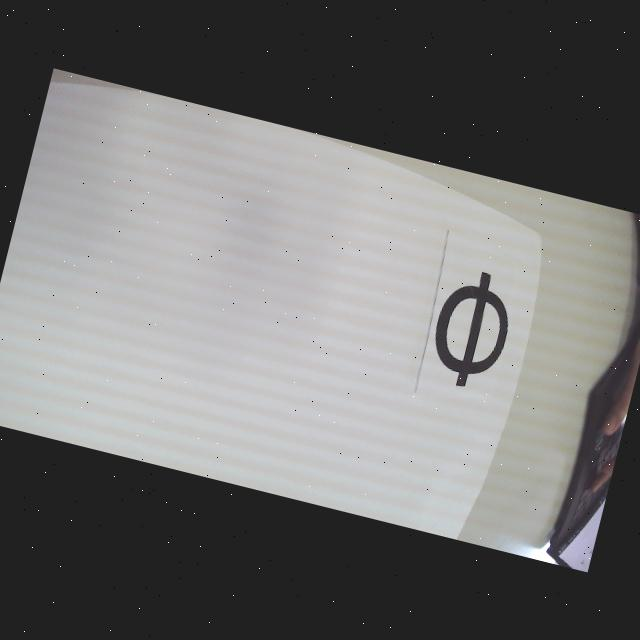PHI: (422, 263, 520, 395)
